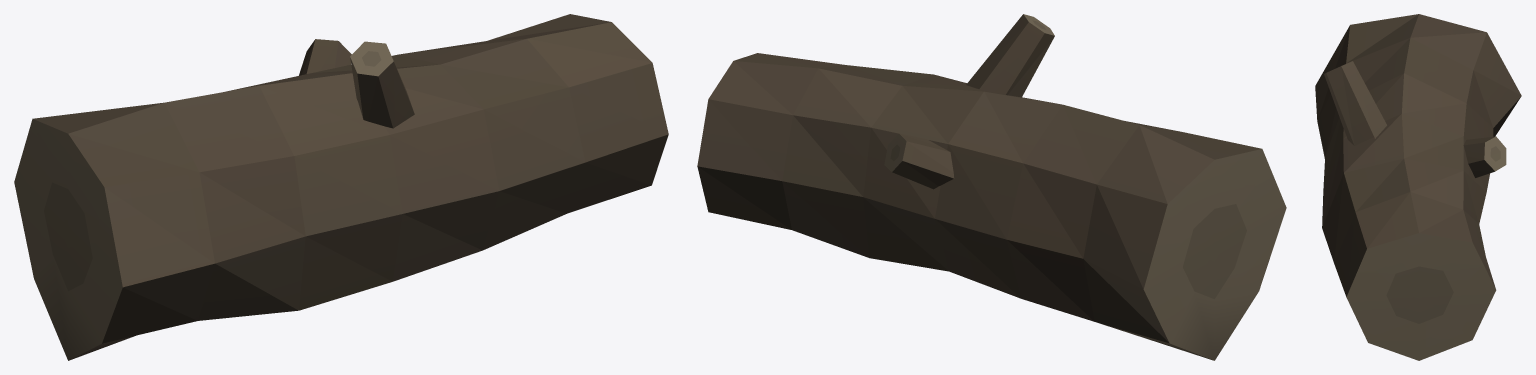
File: totholz_dick.glb
3 views of the same model, side by side, from view 1: azimuth 30°, elevation 25°; view 2: azimuth 150°, elevation 25°; view 3: azimuth 270°, elevation 25° (orthographic). The views are drawn at different scales.
Parts seen in each view (by area): view 1: totholz_dick; view 2: totholz_dick; view 3: totholz_dick.
Boxes of the visible parts, bbox=[...] form: totholz_dick: bbox=[14, 14, 668, 360]; totholz_dick: bbox=[697, 14, 1286, 360]; totholz_dick: bbox=[1315, 14, 1521, 360].
Bounding box in the file's own units: 1.64 × 0.8 × 0.6767.
